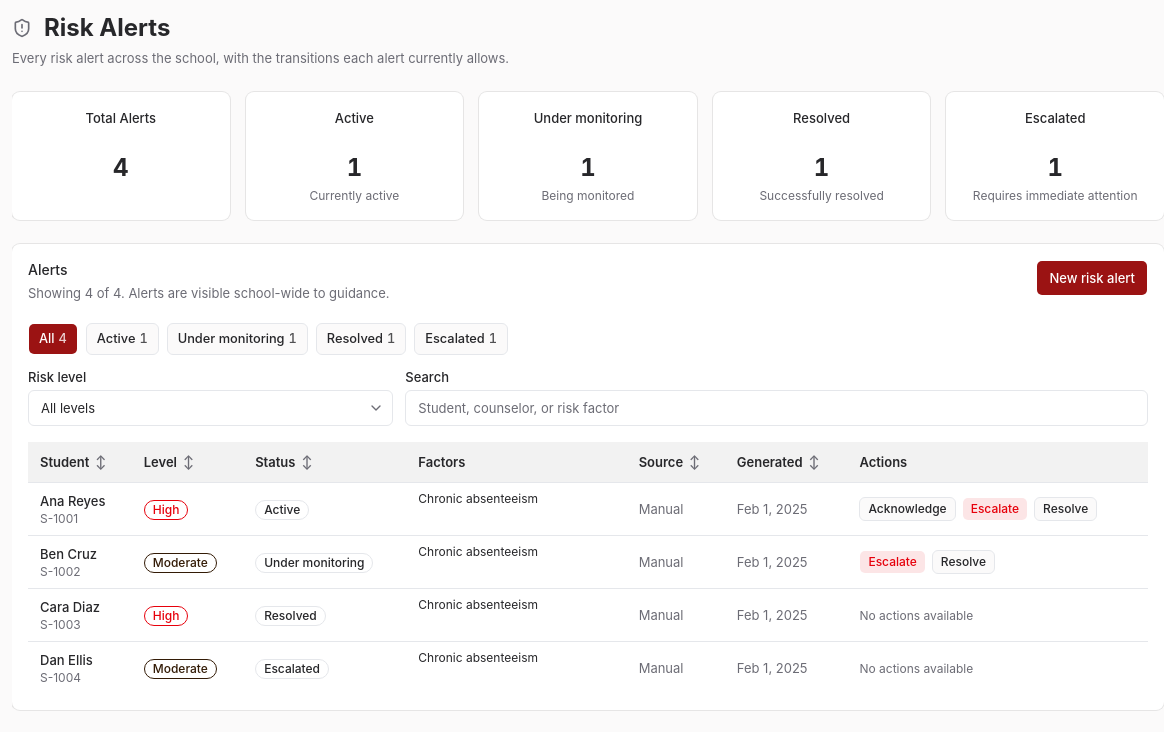
Test: RiskAlertsPage › searches by student name
Expected: the text "Ana Reyes" is shown, x1=40 y1=493 x2=105 y2=509
Type "ben" into the search field labelled "Search" at (777,408), box x1=405 y1=390 x2=1148 y2=426
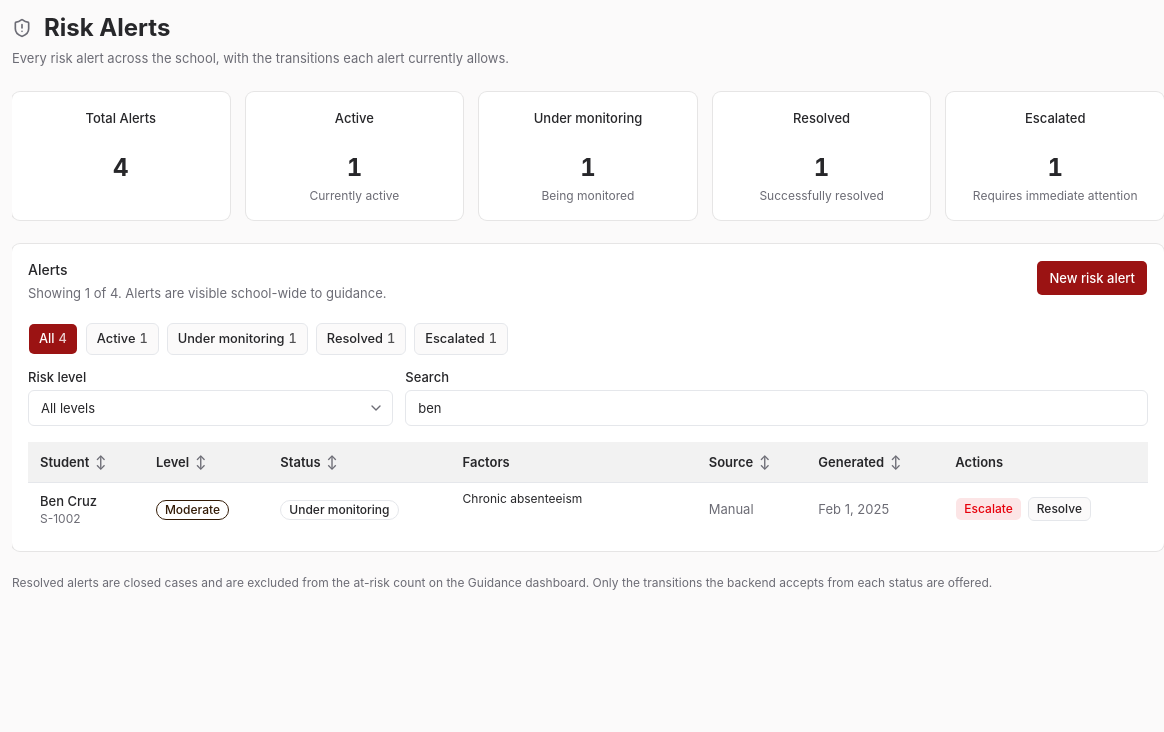
Expected: the text "Ben Cruz" is shown, x1=40 y1=493 x2=97 y2=509
Expected: the text "Showing 1 of 4. Alerts are visible school-wide to guidance." is shown, x1=28 y1=283 x2=386 y2=303
